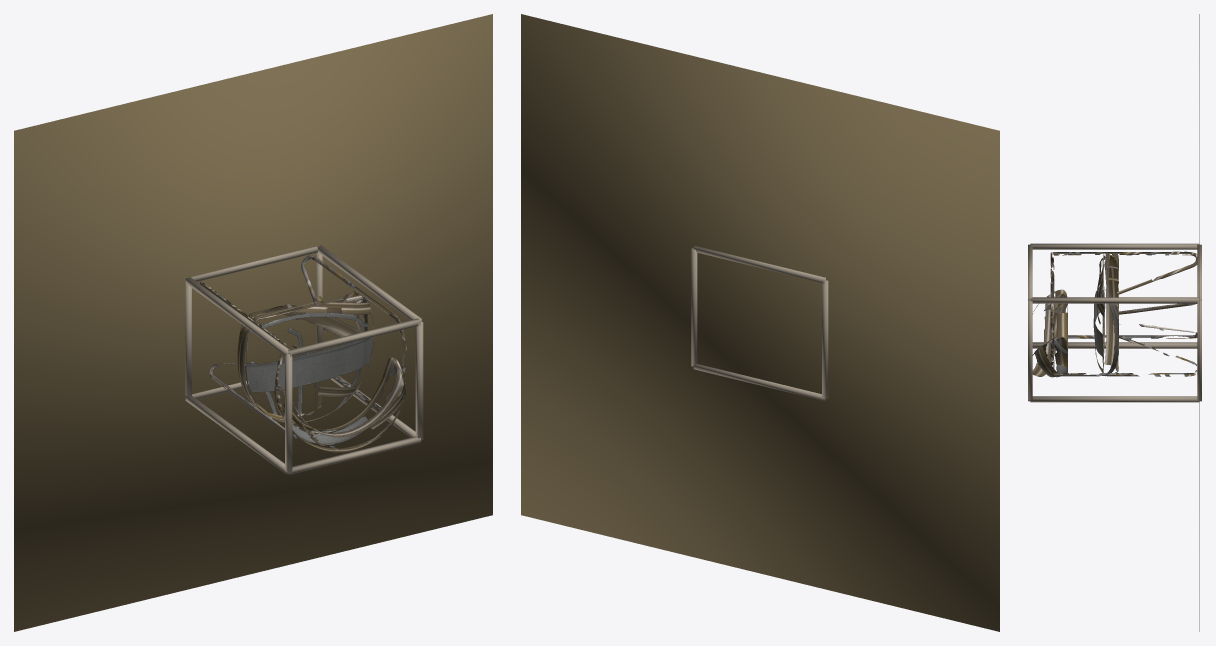
The picture shows the model from 3 angles, left to right: view 1: azimuth 30°, elevation 25°; view 2: azimuth 150°, elevation 25°; view 3: azimuth 270°, elevation 25°; orthographic projection. The views are drawn at different scales.
Bounding box in the file's own units: 2 × 2 × 0.7477.
